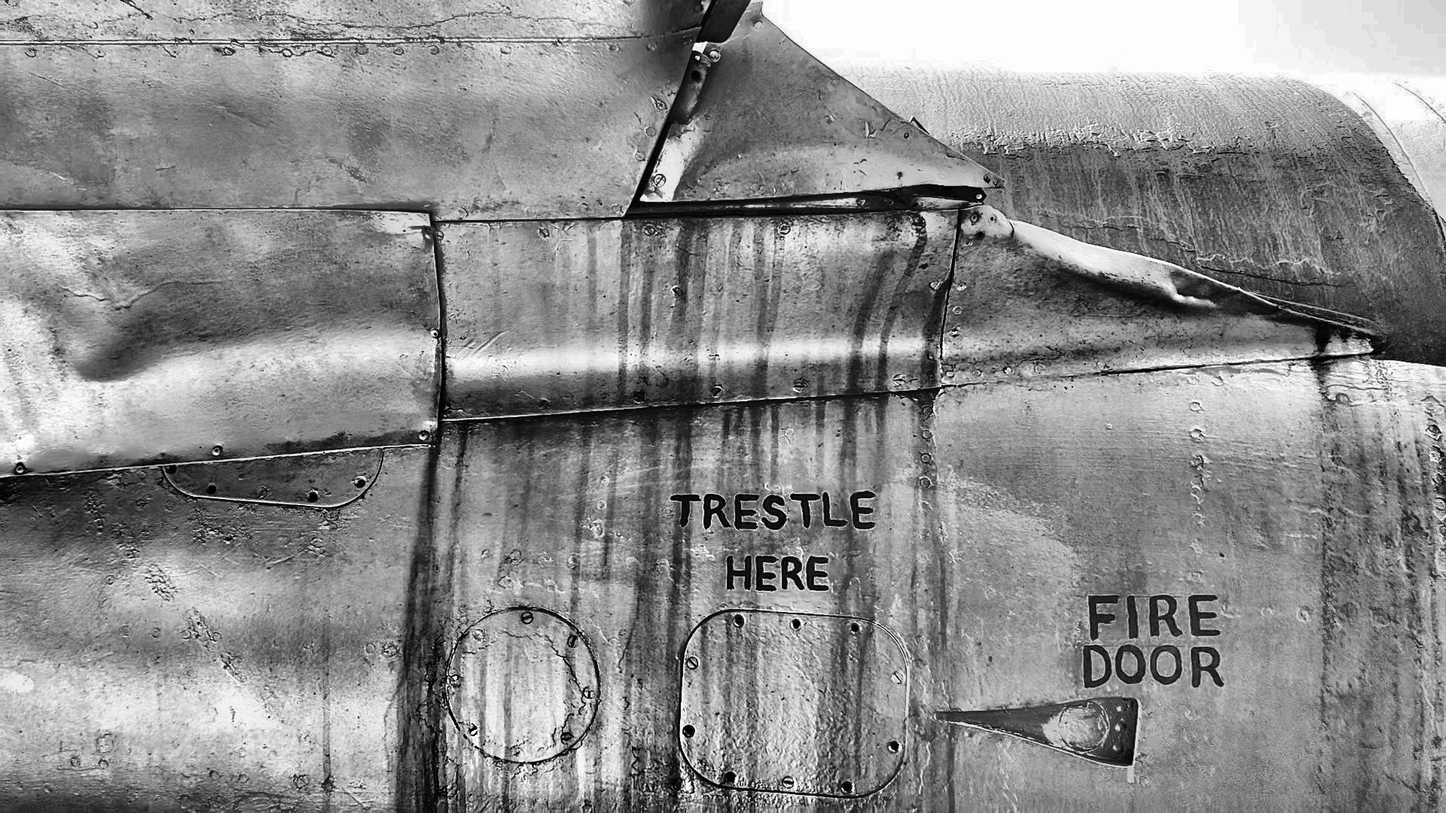dent: (1015, 226, 1229, 311), (715, 143, 961, 185), (73, 342, 155, 385), (282, 426, 417, 451), (670, 149, 706, 200), (84, 446, 123, 464)
missing-head: (791, 617, 804, 632), (848, 622, 863, 634), (308, 489, 320, 503), (682, 724, 696, 736), (840, 782, 854, 794), (726, 771, 738, 784), (889, 741, 903, 752), (167, 463, 179, 474), (734, 615, 746, 626), (356, 476, 365, 489), (208, 483, 216, 495)
paint-peel-off: (896, 388, 942, 413)
scratch: (473, 329, 507, 356)
